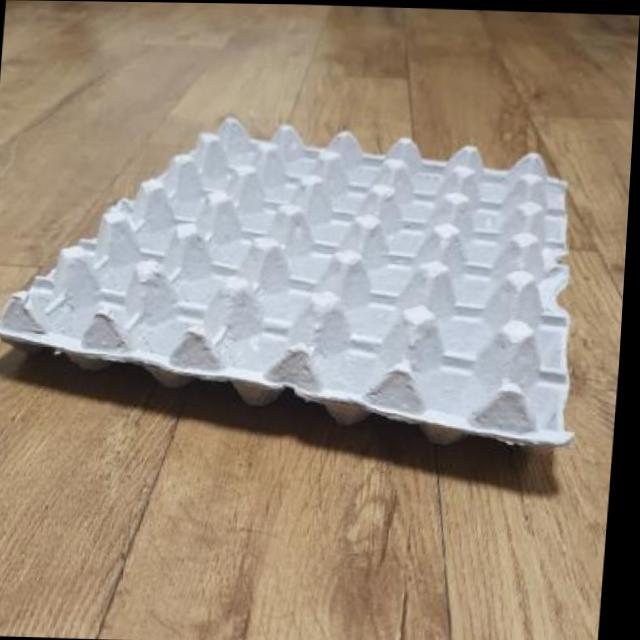box: (0, 61, 637, 546)
